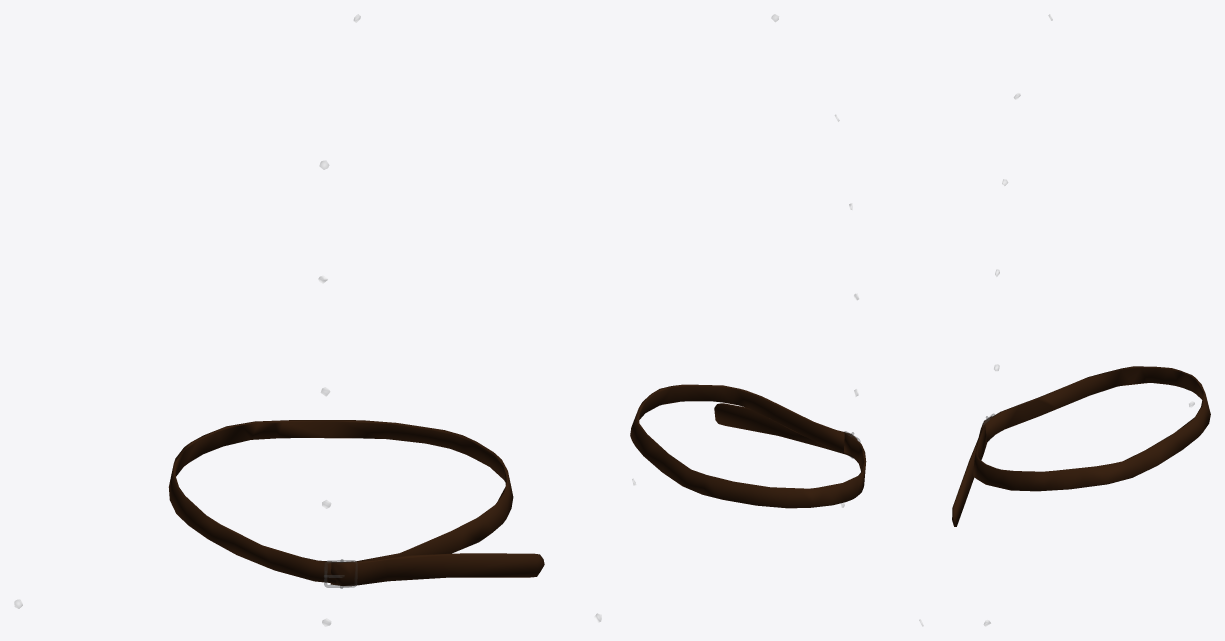
Rendered from detmay_L4.glb.
3 views of the same model, side by side, from view 1: azimuth 30°, elevation 25°; view 2: azimuth 150°, elevation 25°; view 3: azimuth 270°, elevation 25° (orthographic). The views are drawn at different scales.
Visible parts, largest first — view 1: _l4_Man mannequin; view 2: _l4_Man mannequin; view 3: _l4_Man mannequin.
Part boxes in pixels (left/top/right/bottom): _l4_Man mannequin: left=168, top=420, right=544, bottom=586; _l4_Man mannequin: left=630, top=384, right=866, bottom=508; _l4_Man mannequin: left=952, top=366, right=1210, bottom=526.
Bounding box in the file's own units: 0.8001 × 1.04 × 0.4594.
